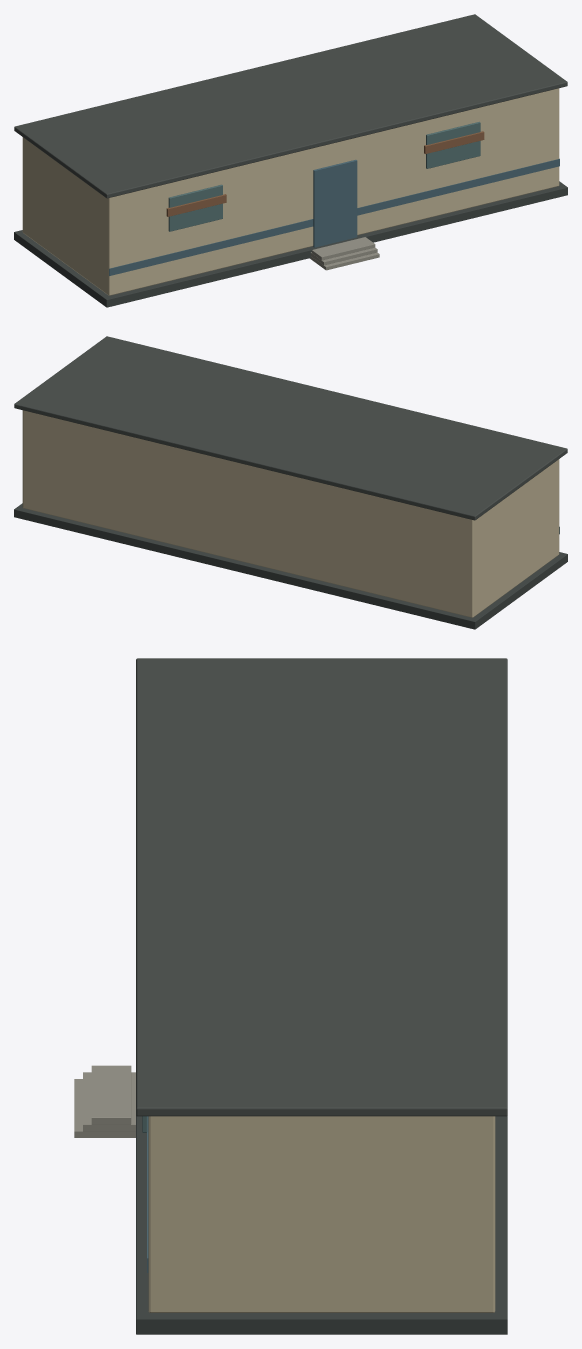
The model's file is env_trailer_abandoned.gltf.
3 renders of one model, top to bottom at view 1: azimuth 30°, elevation 25°; view 2: azimuth 150°, elevation 25°; view 3: azimuth 270°, elevation 25°, orthographic. The views are drawn at different scales.
Parts seen in each view (by area): view 1: env_trailer_abandoned__roof, env_trailer_abandoned__paint_cream, env_trailer_abandoned__paint_blue, env_trailer_abandoned__dark_steel, env_trailer_abandoned__glass, env_trailer_abandoned__concrete, env_trailer_abandoned__wood; view 2: env_trailer_abandoned__paint_cream, env_trailer_abandoned__roof, env_trailer_abandoned__dark_steel; view 3: env_trailer_abandoned__roof, env_trailer_abandoned__paint_cream, env_trailer_abandoned__dark_steel, env_trailer_abandoned__concrete.
Part boxes in pixels (x1,y1,x2,y2): env_trailer_abandoned__roof: [14, 14, 567, 198]; env_trailer_abandoned__paint_cream: [22, 88, 559, 295]; env_trailer_abandoned__paint_blue: [109, 158, 559, 275]; env_trailer_abandoned__dark_steel: [14, 181, 567, 307]; env_trailer_abandoned__glass: [168, 121, 480, 231]; env_trailer_abandoned__concrete: [310, 237, 379, 270]; env_trailer_abandoned__wood: [166, 131, 484, 216]; env_trailer_abandoned__paint_cream: [22, 410, 559, 617]; env_trailer_abandoned__roof: [14, 336, 567, 520]; env_trailer_abandoned__dark_steel: [14, 503, 567, 629]; env_trailer_abandoned__roof: [136, 658, 507, 1116]; env_trailer_abandoned__paint_cream: [148, 1116, 495, 1312]; env_trailer_abandoned__dark_steel: [136, 1115, 507, 1334]; env_trailer_abandoned__concrete: [74, 1065, 135, 1137].
Size of the model in its own units: 43 by 10.35 by 17.5.
